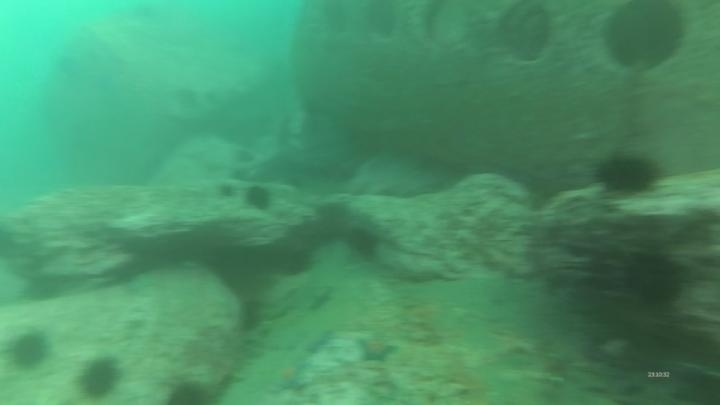echinus: (620, 248, 687, 312), (593, 150, 663, 198), (74, 353, 125, 402), (5, 327, 54, 375), (273, 244, 316, 281), (343, 224, 383, 262), (164, 378, 213, 405), (235, 295, 268, 335), (241, 182, 275, 215)
starfish: (264, 356, 312, 397), (354, 331, 400, 366), (300, 326, 338, 358)
